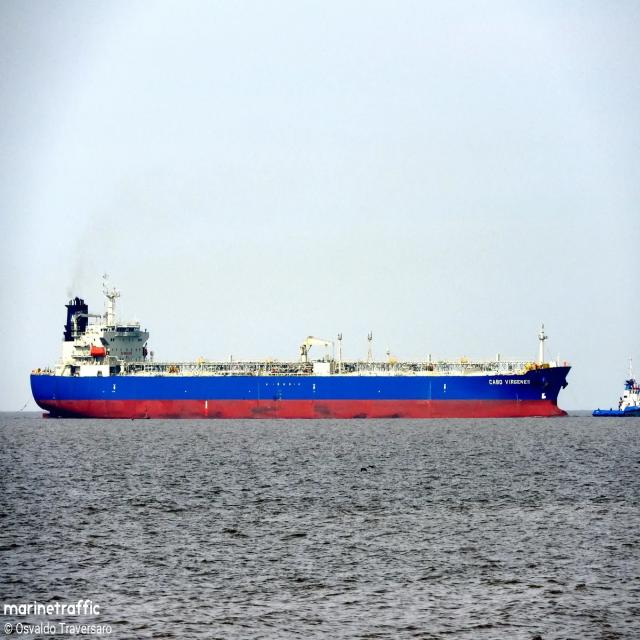Tanker: (31, 283, 570, 418)
Tug: (594, 369, 640, 416)
